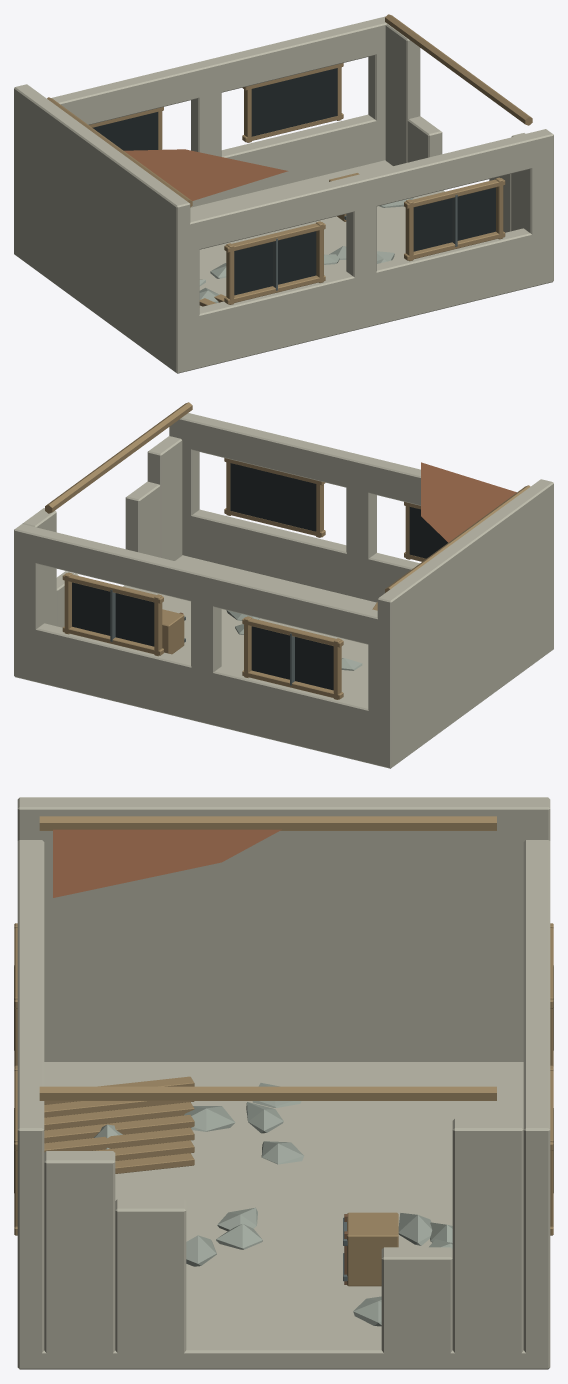
File: house_ruin.glb
3 views of the same model, one above another, from view 1: azimuth 30°, elevation 25°; view 2: azimuth 150°, elevation 25°; view 3: azimuth 270°, elevation 25° (orthographic). The views are drawn at different scales.
Parts seen in each view (by area): view 1: house_ruin; view 2: house_ruin; view 3: house_ruin.
Boxes of the visible parts, x1,y1,x2,y2 form: house_ruin: (14, 14, 553, 373); house_ruin: (14, 402, 553, 768); house_ruin: (14, 797, 553, 1369).
Size of the model in its own units: 8 by 3.48 by 6.08.
